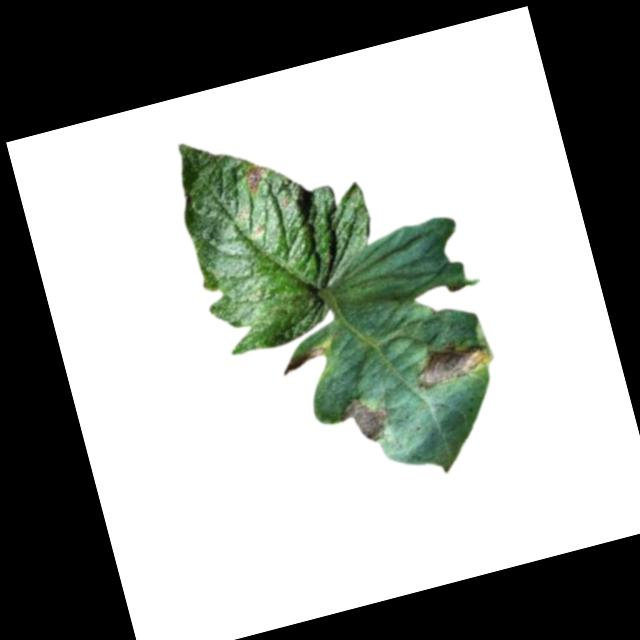Early_blight: (408, 330, 496, 395), (334, 387, 394, 450), (278, 343, 329, 376), (240, 160, 273, 195)
